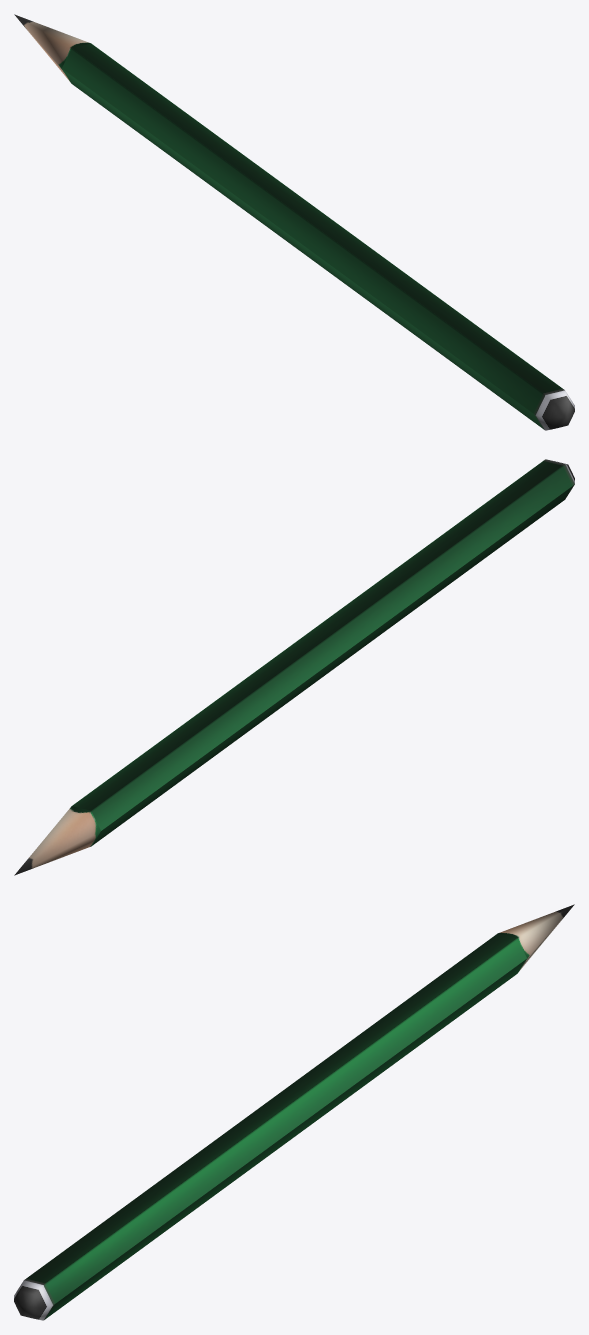
File: ShenFuXiuXiShi_01_qianbi_01.FBX
The picture shows the model from 3 angles, top to bottom: view 1: azimuth 30°, elevation 25°; view 2: azimuth 150°, elevation 25°; view 3: azimuth 330°, elevation 25°; orthographic projection.
Parts seen in each view (by area): view 1: ShenFuXiuXiShi_01_qianbi_01; view 2: ShenFuXiuXiShi_01_qianbi_01; view 3: ShenFuXiuXiShi_01_qianbi_01.
Boxes of the visible parts, <box> form: ShenFuXiuXiShi_01_qianbi_01: <box>14,14,574,430</box>; ShenFuXiuXiShi_01_qianbi_01: <box>14,459,574,875</box>; ShenFuXiuXiShi_01_qianbi_01: <box>14,904,574,1320</box>.
Size of the model in its own units: 7.73 by 6.69 by 187.
